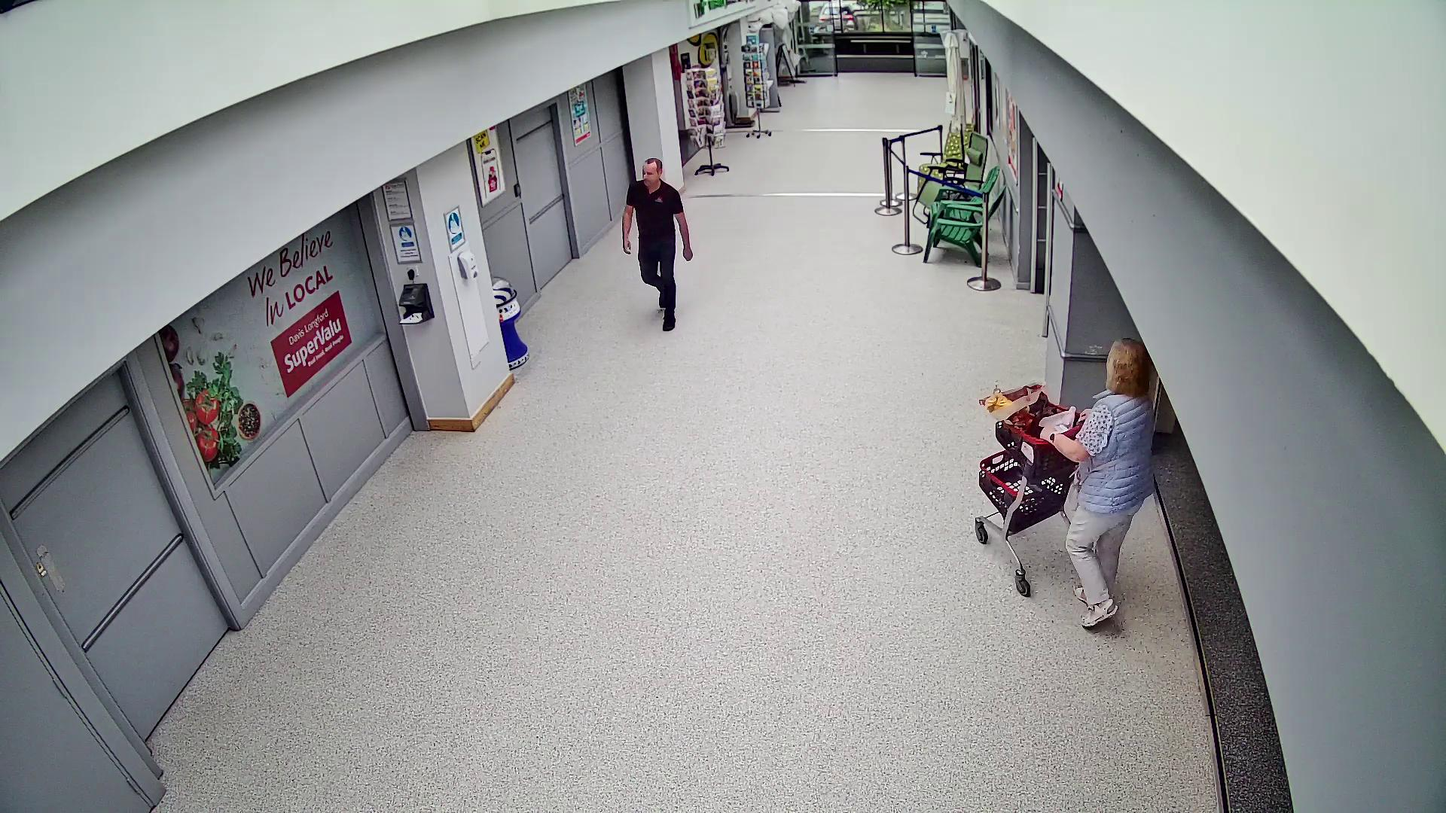filled-trolly: (975, 380, 1092, 596)
person: (1065, 338, 1154, 629)
person-with-filled-basket-trolly: (975, 338, 1155, 630)
